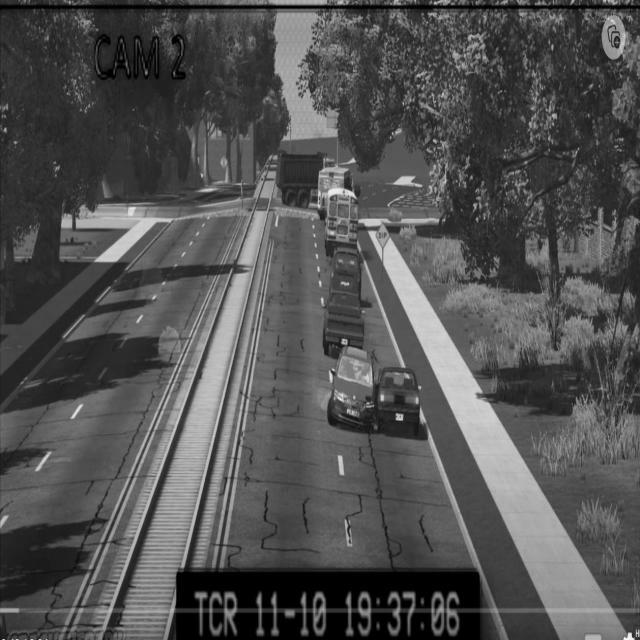accident: (328, 345, 422, 445)
vehicle: (277, 151, 333, 212), (321, 286, 363, 359), (324, 184, 360, 261), (318, 157, 350, 220), (329, 246, 363, 304)
